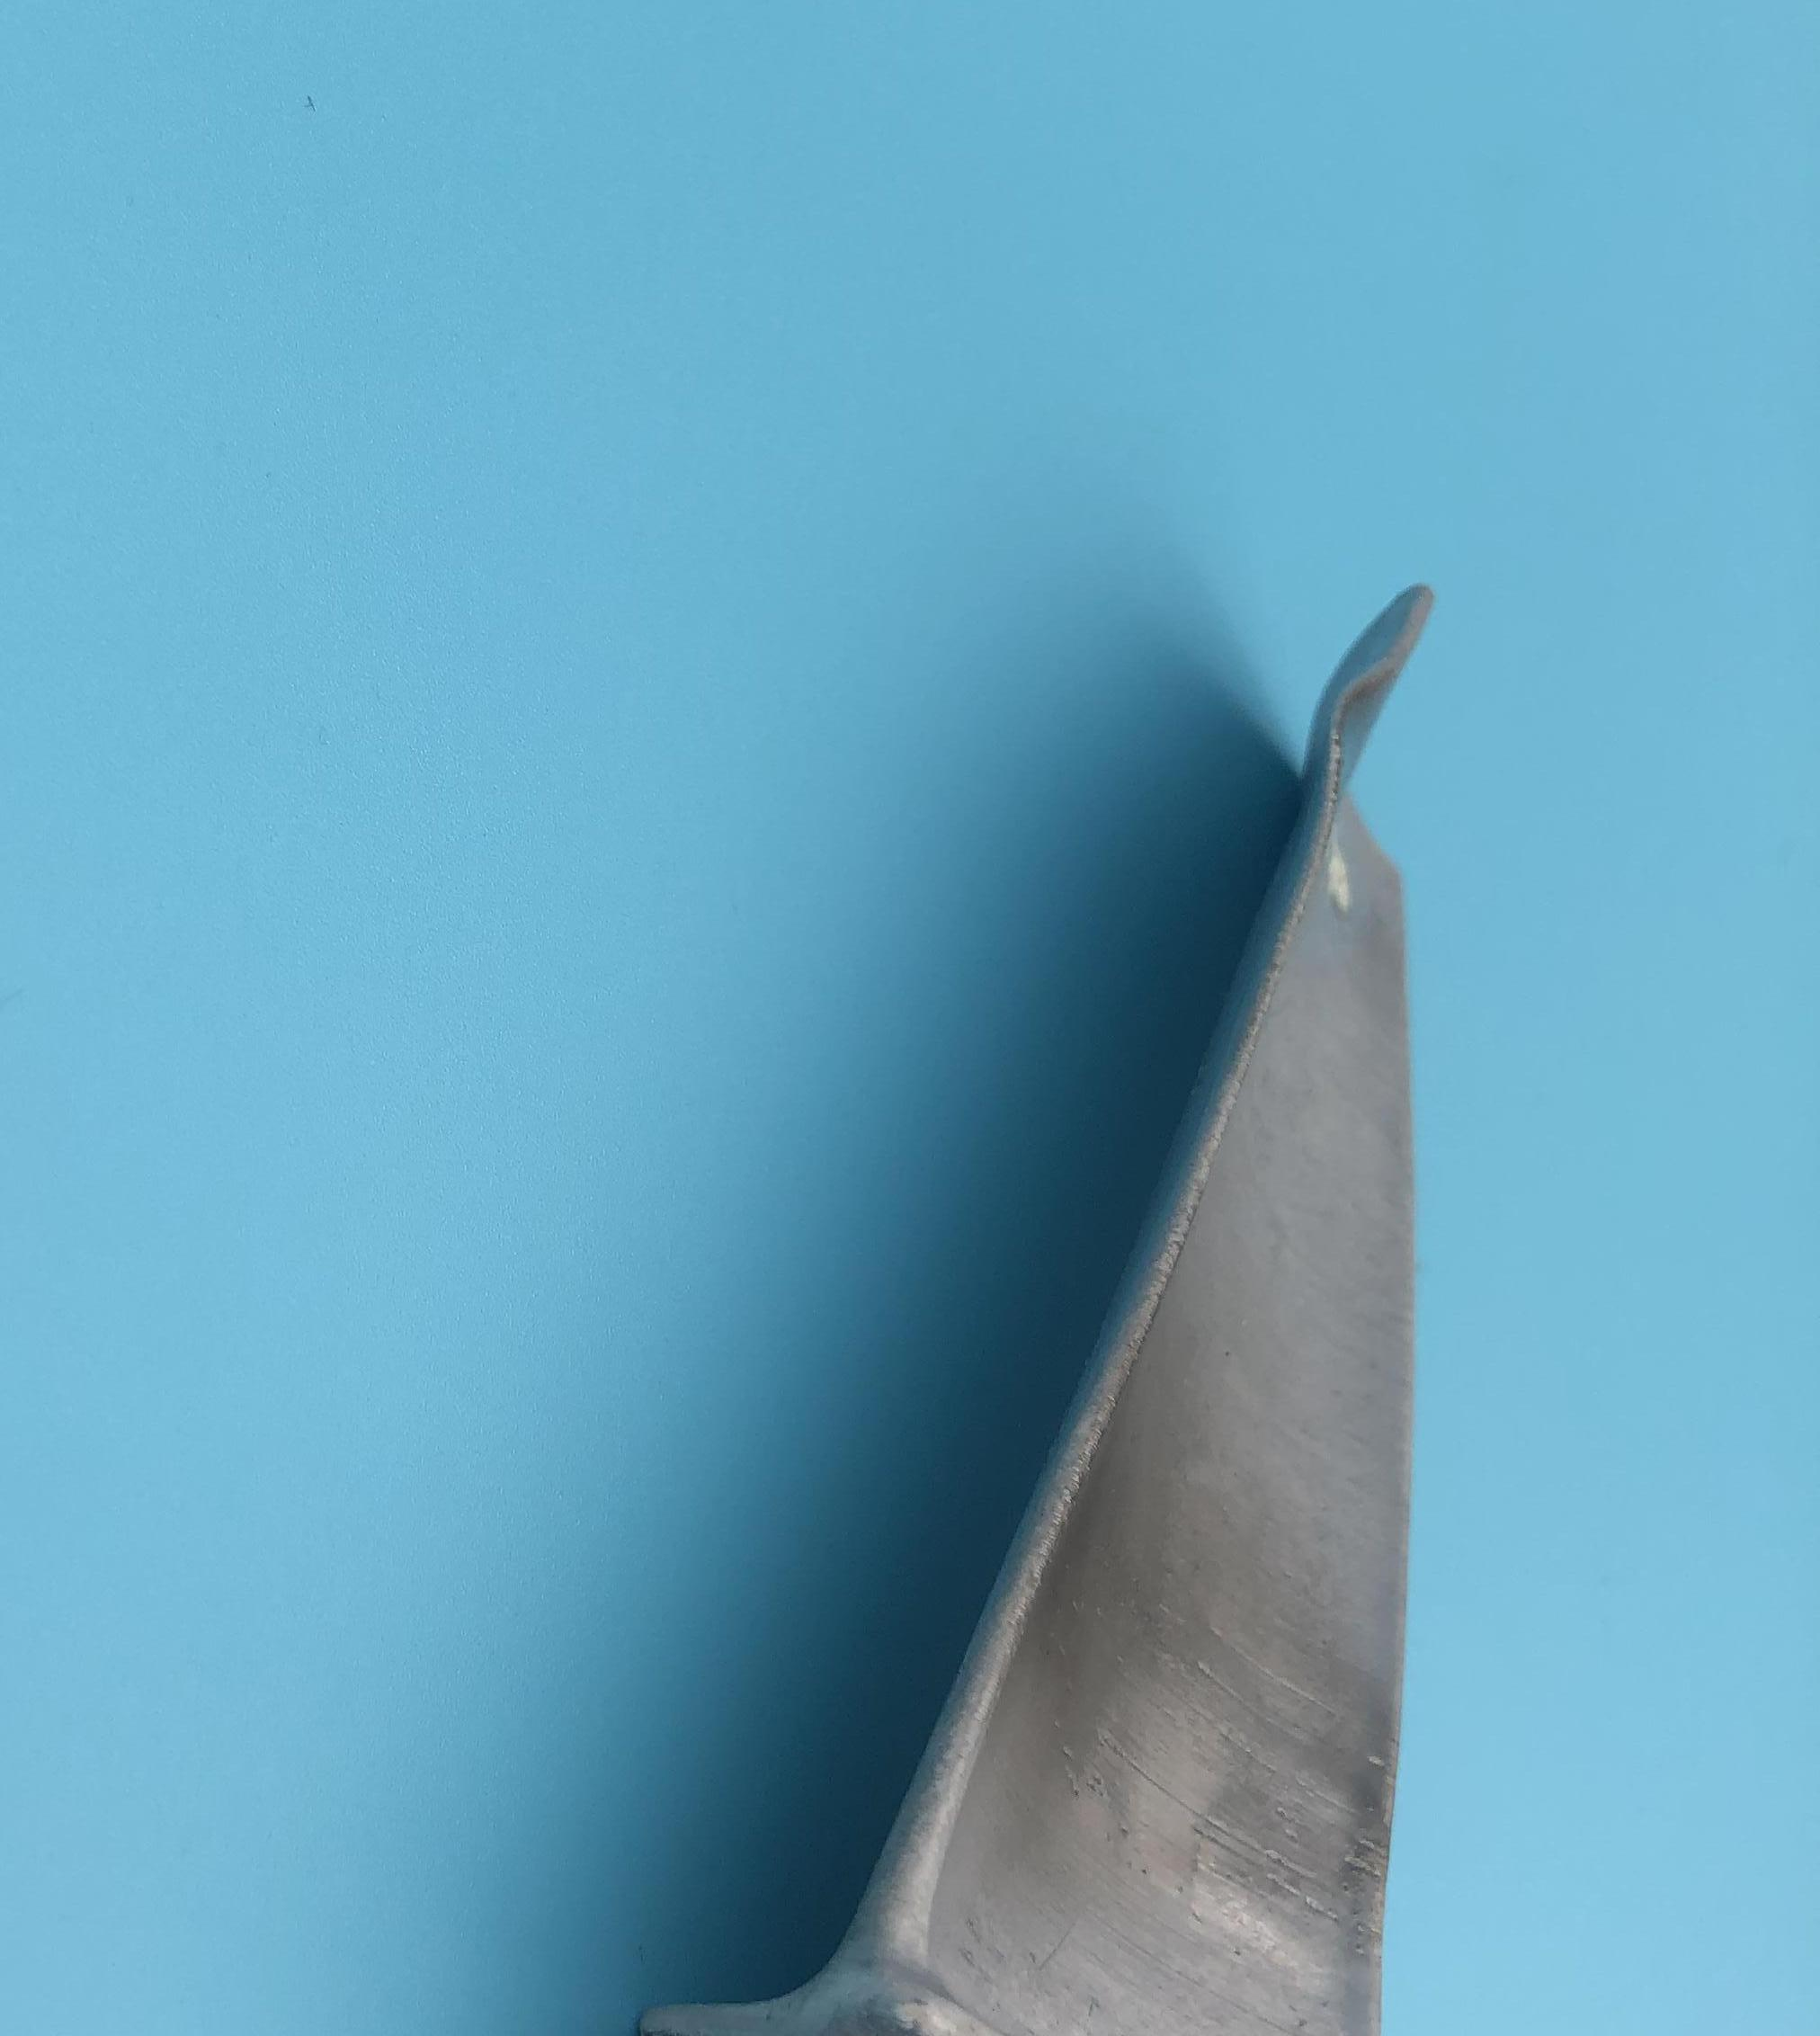ablation: (1038, 1448, 1265, 1739)
